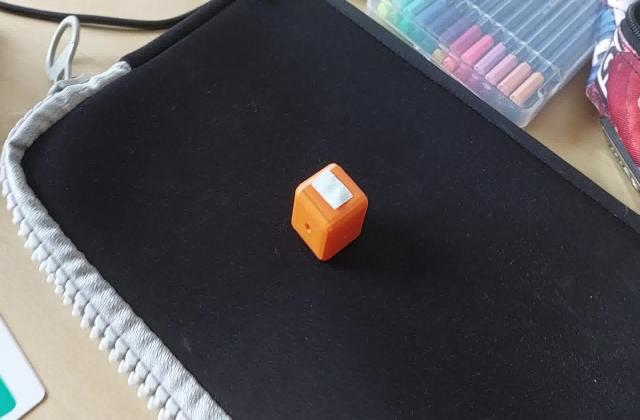sticker: (287, 161, 370, 264)
white: (317, 179, 357, 210)
